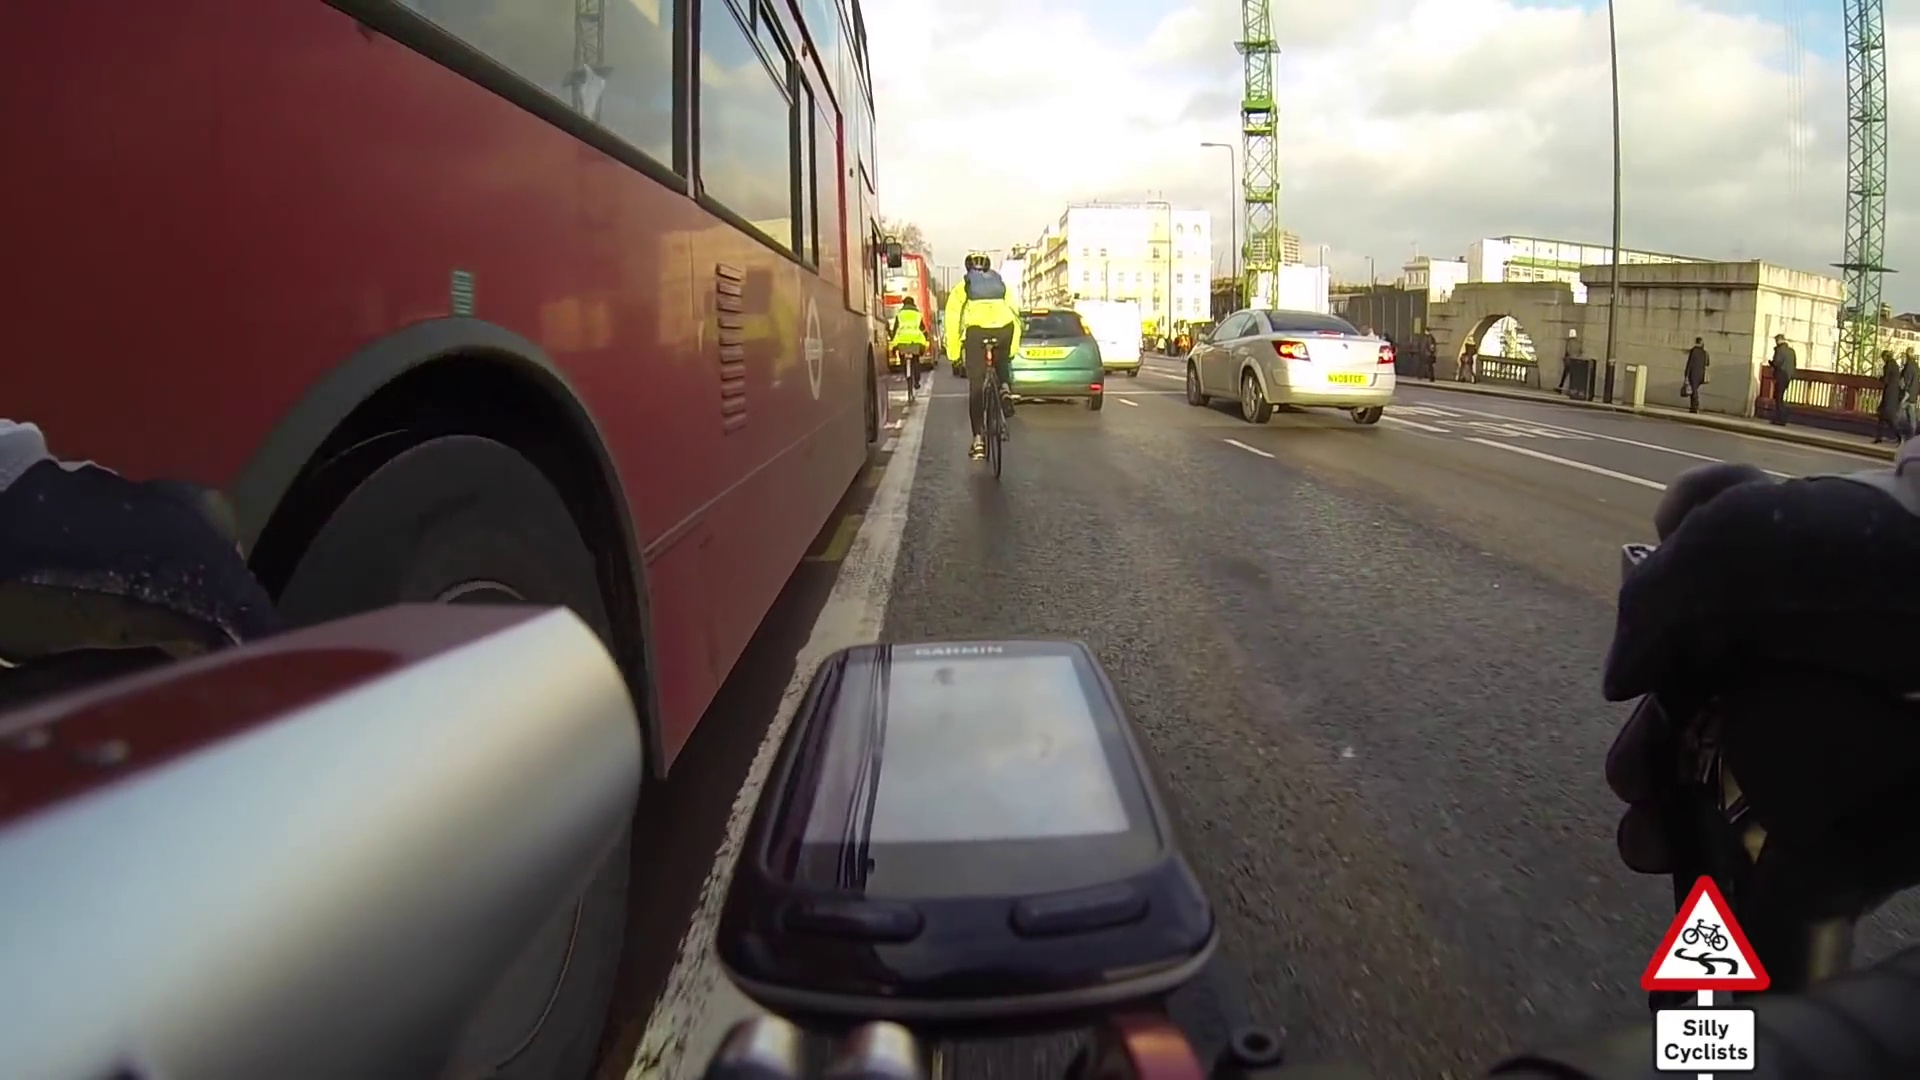cyclist_back: (936, 239, 1036, 488), (887, 290, 930, 405)
